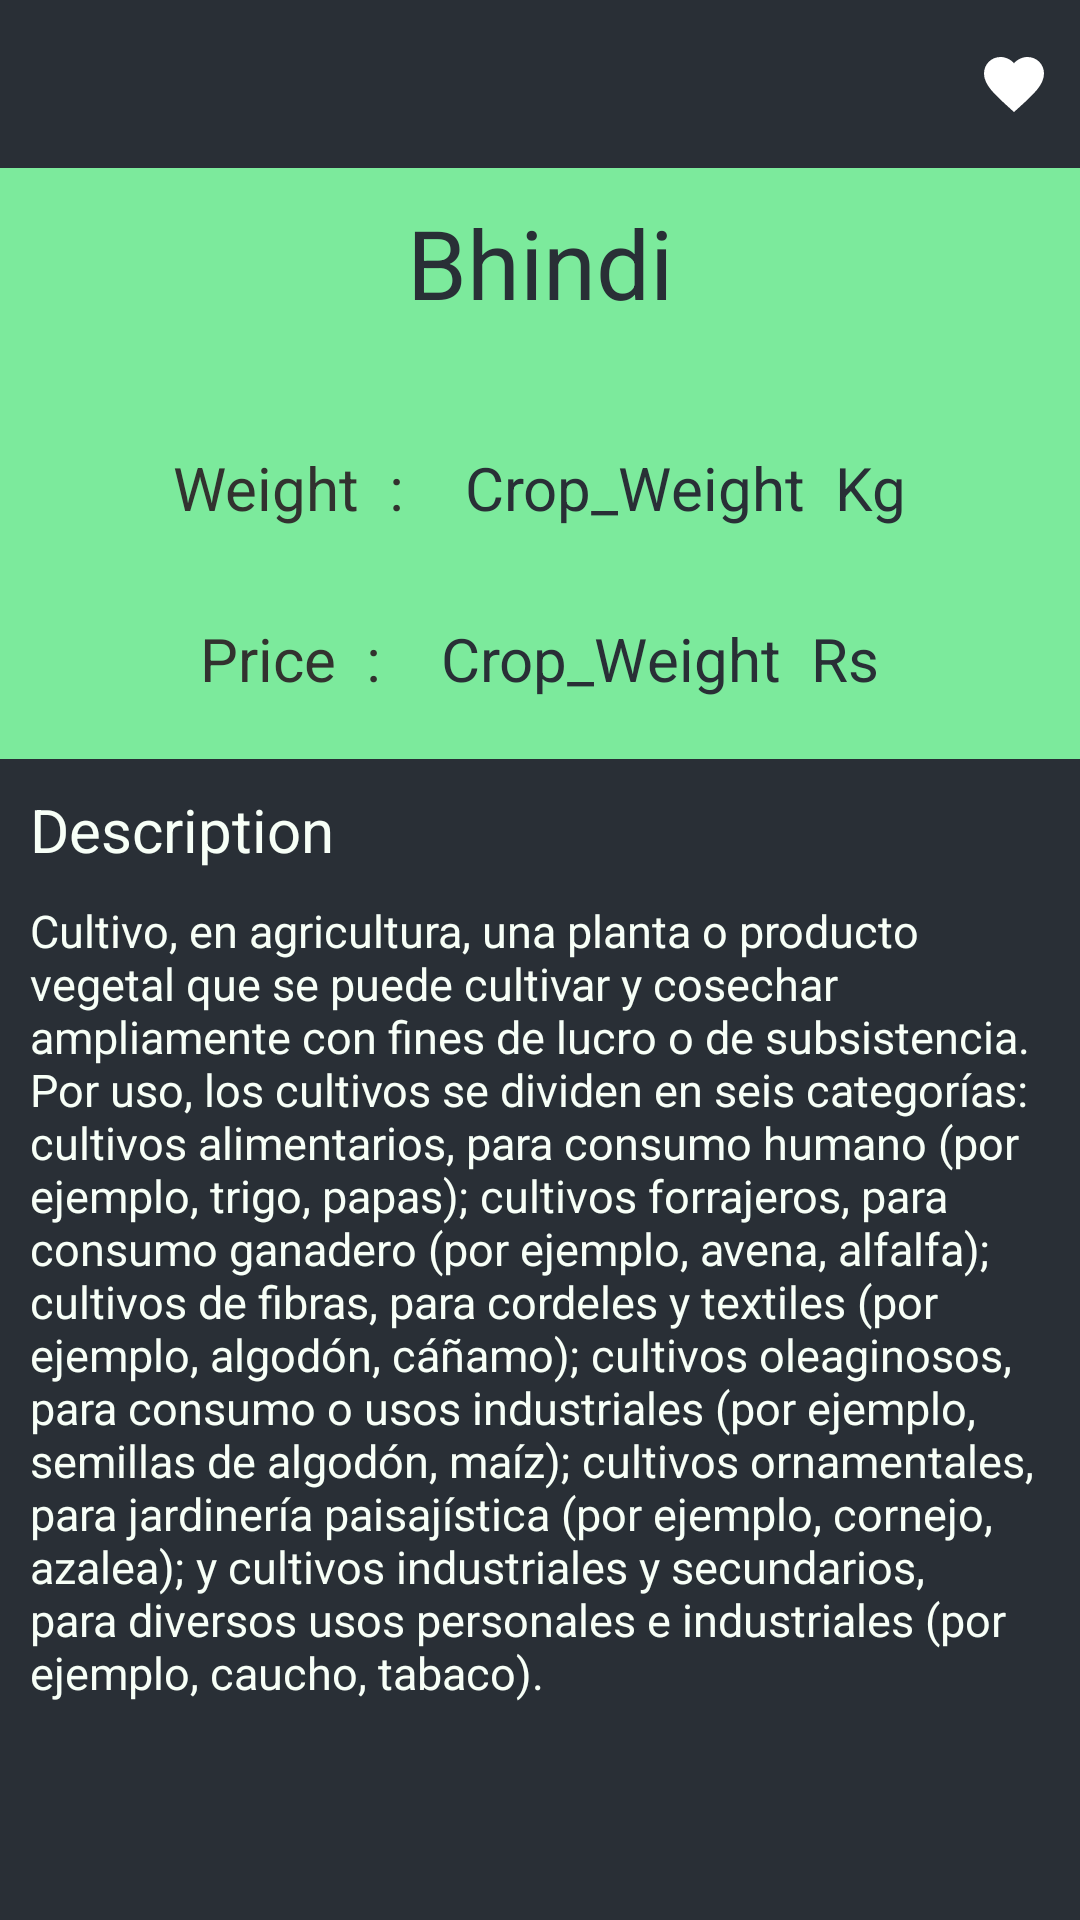

Screen size 1080*1920. Icon name, then its box in pixels as (x1, y1, x2, y2):
like: (984, 57, 1044, 112)
